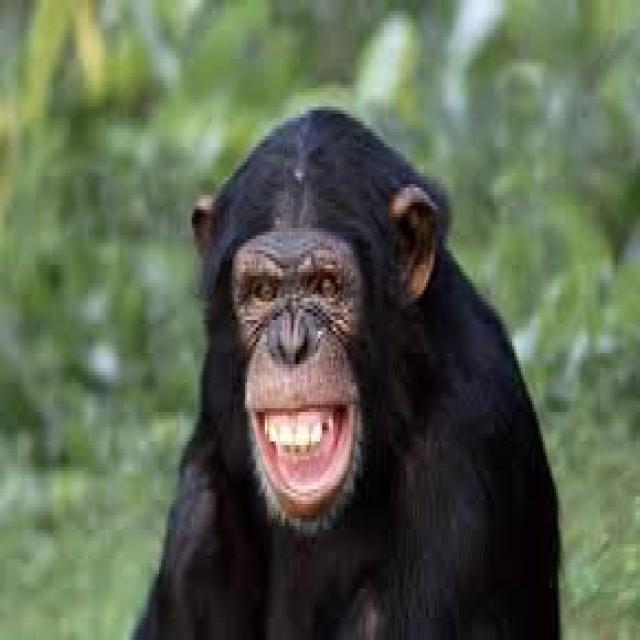Chimpanzee: (139, 106, 556, 640)
